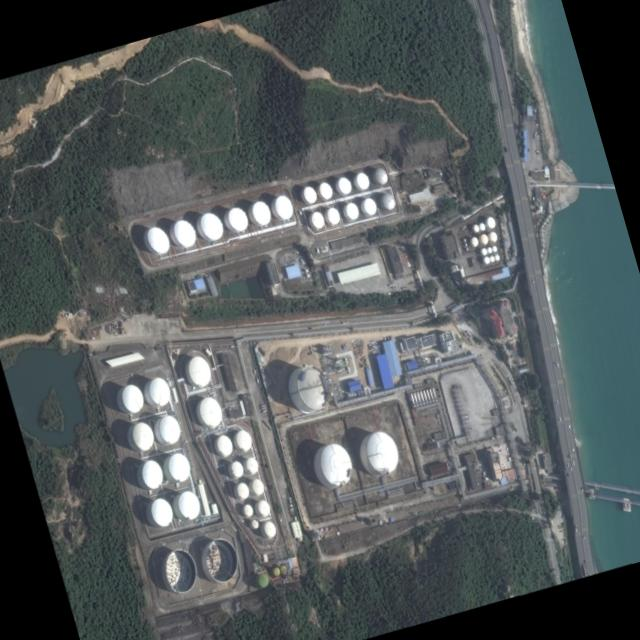storage-tank: (198, 534, 243, 586), (159, 546, 202, 597), (292, 362, 333, 414), (361, 427, 402, 477), (315, 439, 356, 489), (195, 394, 224, 430), (184, 354, 213, 389), (137, 457, 165, 491), (128, 419, 156, 453), (197, 210, 225, 243), (170, 217, 198, 250), (165, 451, 193, 484), (155, 413, 183, 446), (144, 223, 171, 257), (148, 496, 175, 529), (175, 489, 202, 522), (119, 382, 146, 415), (146, 375, 173, 408), (225, 205, 249, 234), (271, 193, 295, 221), (249, 199, 273, 227), (233, 428, 253, 453), (214, 434, 234, 458), (361, 196, 378, 217), (308, 210, 325, 230), (301, 185, 318, 205), (373, 166, 389, 186), (380, 192, 396, 212), (354, 171, 370, 191), (336, 175, 352, 195), (325, 206, 341, 226), (317, 180, 333, 200), (343, 202, 359, 221), (249, 477, 265, 496), (243, 456, 259, 475), (229, 460, 244, 480), (235, 481, 250, 500), (262, 520, 277, 538), (256, 499, 271, 517), (255, 572, 270, 588), (242, 503, 254, 517), (485, 216, 496, 229), (478, 233, 489, 245), (488, 231, 497, 242), (271, 566, 280, 577), (470, 236, 478, 247), (279, 565, 287, 575), (250, 519, 258, 529), (482, 256, 490, 265), (478, 222, 486, 231), (472, 223, 479, 233), (480, 247, 487, 255), (493, 253, 500, 261), (488, 255, 494, 262), (486, 246, 492, 253), (491, 245, 497, 252), (462, 238, 466, 242), (465, 247, 468, 251), (464, 243, 467, 246)
